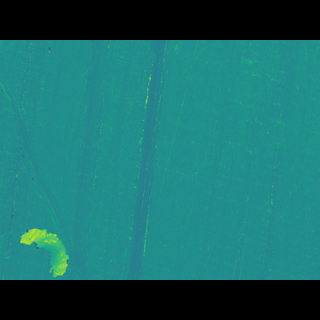Loch: (0, 94, 95, 250), (17, 211, 78, 249)
